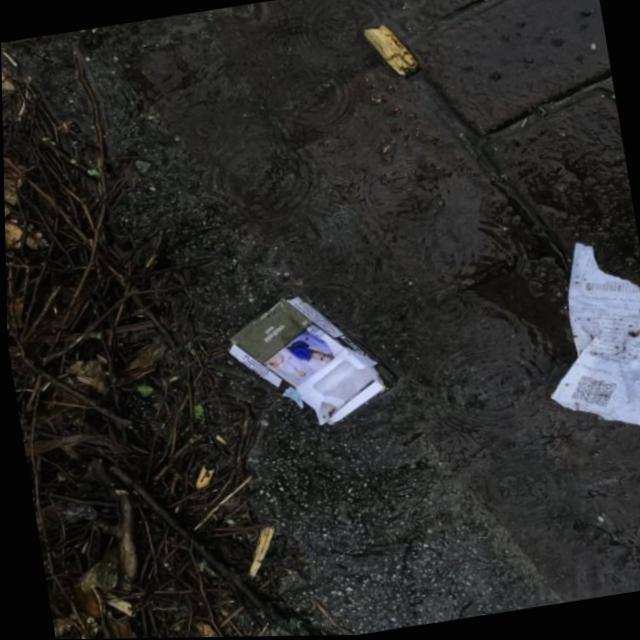Paper: (214, 279, 407, 443), (523, 233, 640, 441)
